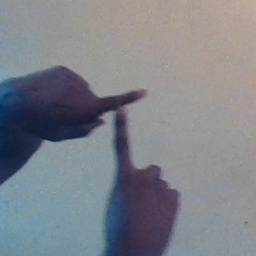T: (70, 74, 172, 191)
